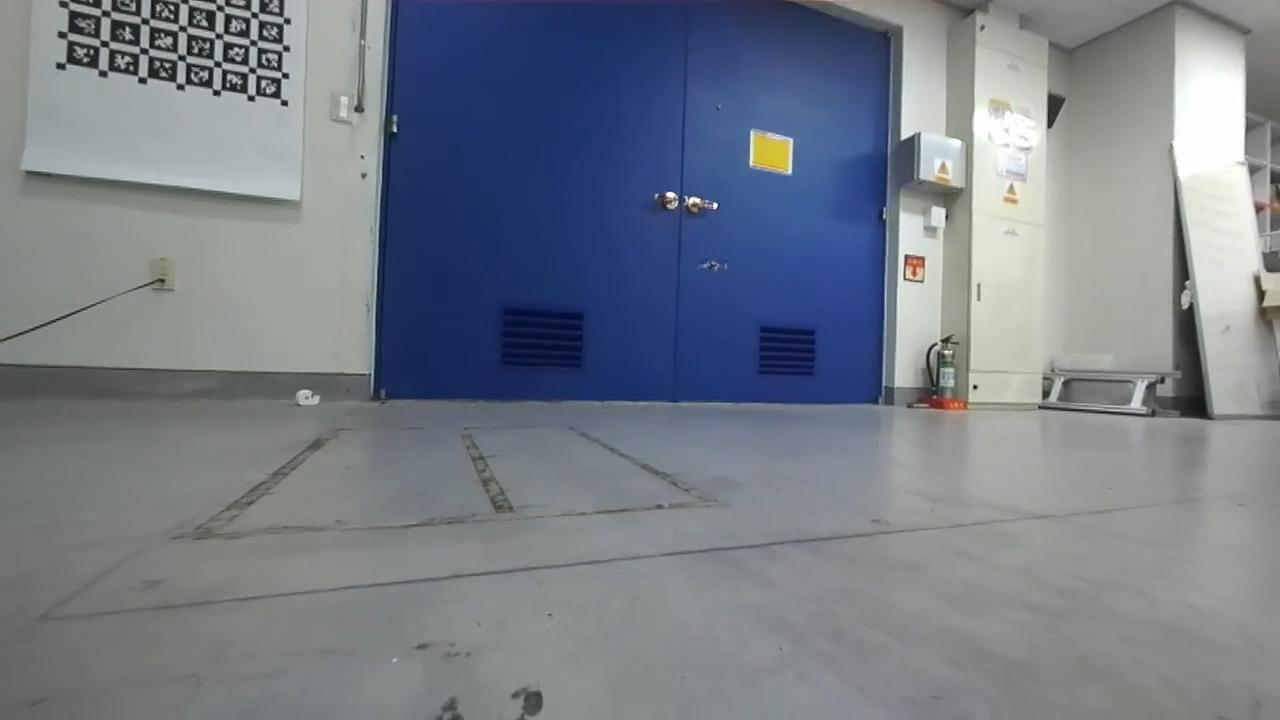crazyflie: (687, 252, 737, 280)
